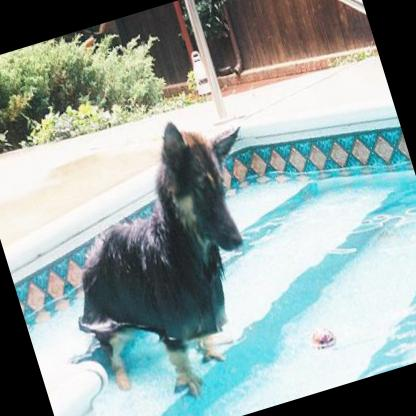German_shepherd: (27, 99, 313, 416)
